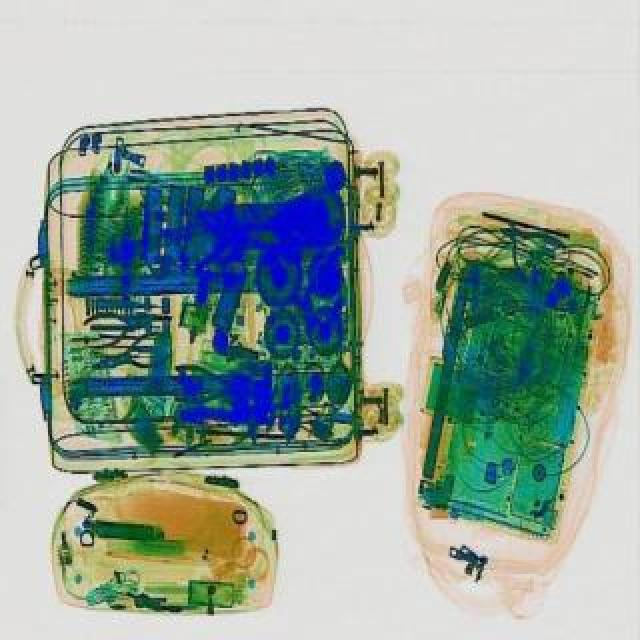wrench: (478, 204, 566, 284), (80, 296, 176, 352), (86, 328, 174, 380), (174, 362, 250, 402)
